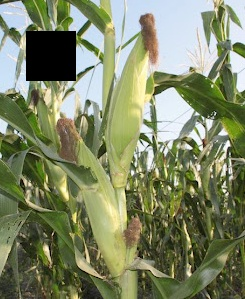corn_plant: (56, 119, 129, 279), (114, 12, 160, 189)
